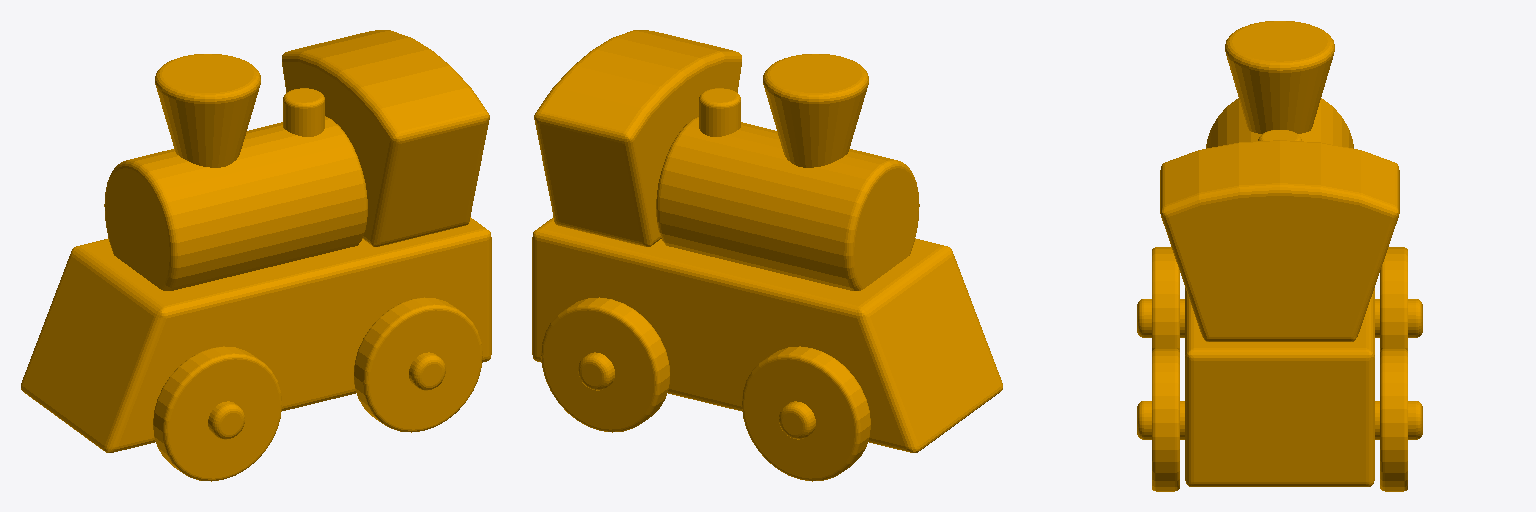
robot.urdf — object:
<?xml version="1.0"?>
<robot name="object">
  <link name="object">
    <visual>
      <origin xyz="0.0 0.0 0.0"/>
      <geometry>
        <mesh filename="train.stl" scale="1.00 1.00 1.00"/>
      </geometry>
    </visual>
    <collision>
      <origin xyz="0.0 0.0 0.0"/>
      <geometry>
        <mesh filename="train.stl" scale="1.00 1.00 1.00"/>
      </geometry>
    </collision>
  </link>
</robot>
    
                    

--- Render facts (derived) ---
3 views of the same robot in one strip: view 1: azimuth 30°, elevation 25°; view 2: azimuth 150°, elevation 25°; view 3: azimuth 270°, elevation 25° (orthographic).
Robot: object — 1 links, 0 joints (none); root link object; default pose: every joint at zero.
Visible links, largest first — view 1: object; view 2: object; view 3: object.
Boxes of the visible links, x1=… form: object: x1=21, y1=30, x2=491, y2=481; object: x1=532, y1=30, x2=1002, y2=481; object: x1=1137, y1=21, x2=1422, y2=491.
Bounding box of the posed robot: 0.097 × 0.0598 × 0.0843 m (x, y, z).
Meshes: 1 distinct files referenced, 1 mesh visuals loaded (1 binary STL).
